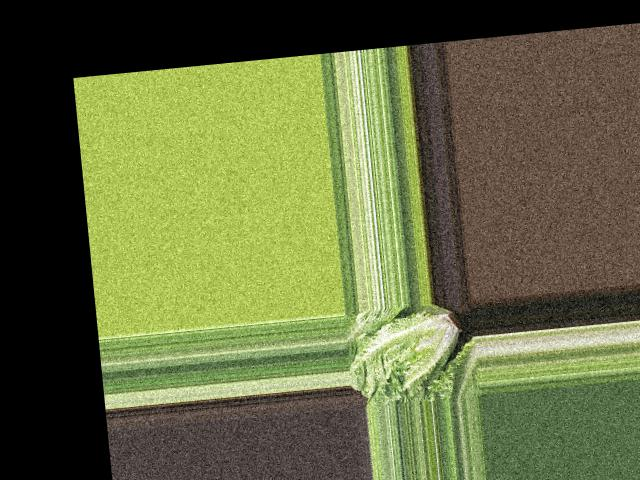lettuce: (345, 300, 473, 401)
